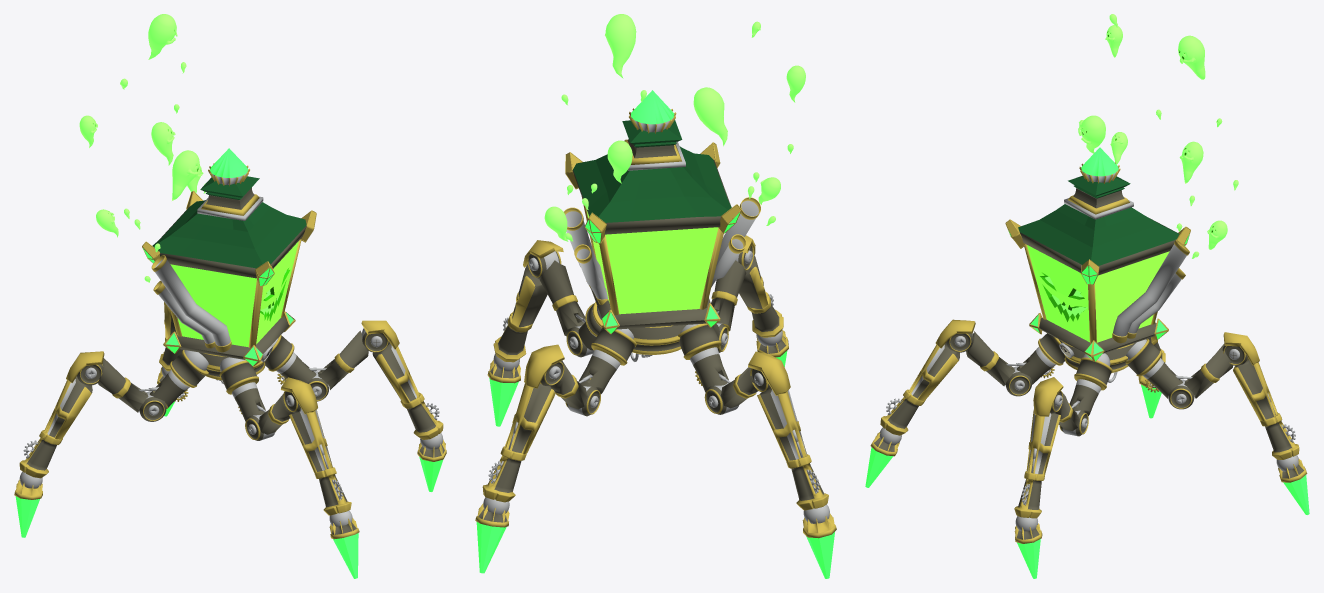
Rendered from bellkeeper.glb.
The picture shows the model from 3 angles, left to right: view 1: azimuth 30°, elevation 25°; view 2: azimuth 150°, elevation 25°; view 3: azimuth 270°, elevation 25°; orthographic projection. The views are drawn at different scales.
Size of the model in its own units: 112 by 138 by 121.
